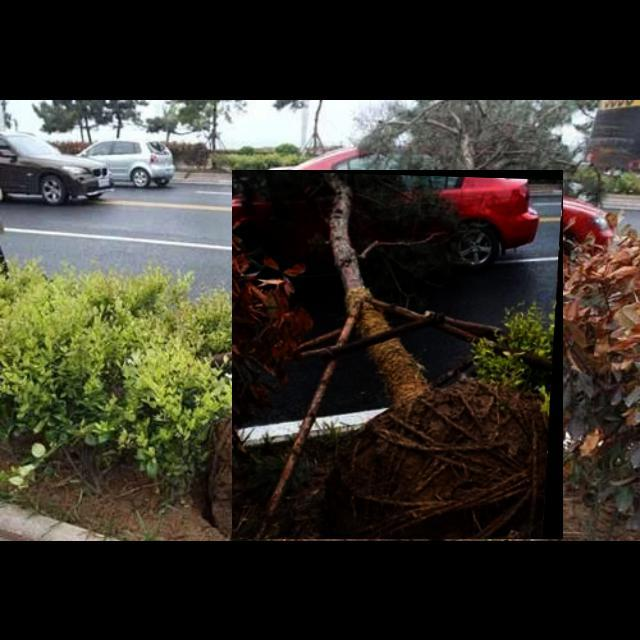fallen_tree: (232, 170, 564, 540)
